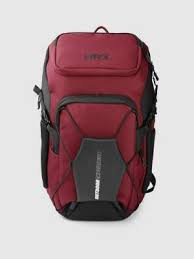backpack: (33, 25, 158, 221)
